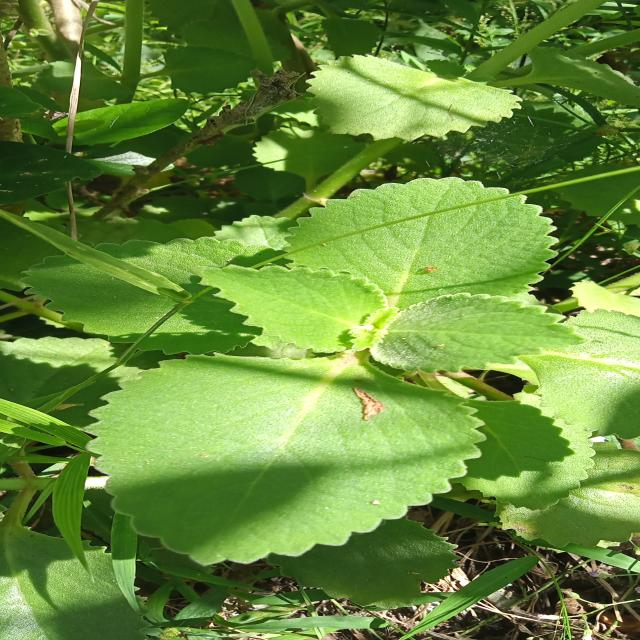Oregano: (77, 344, 503, 570), (234, 169, 582, 382)
